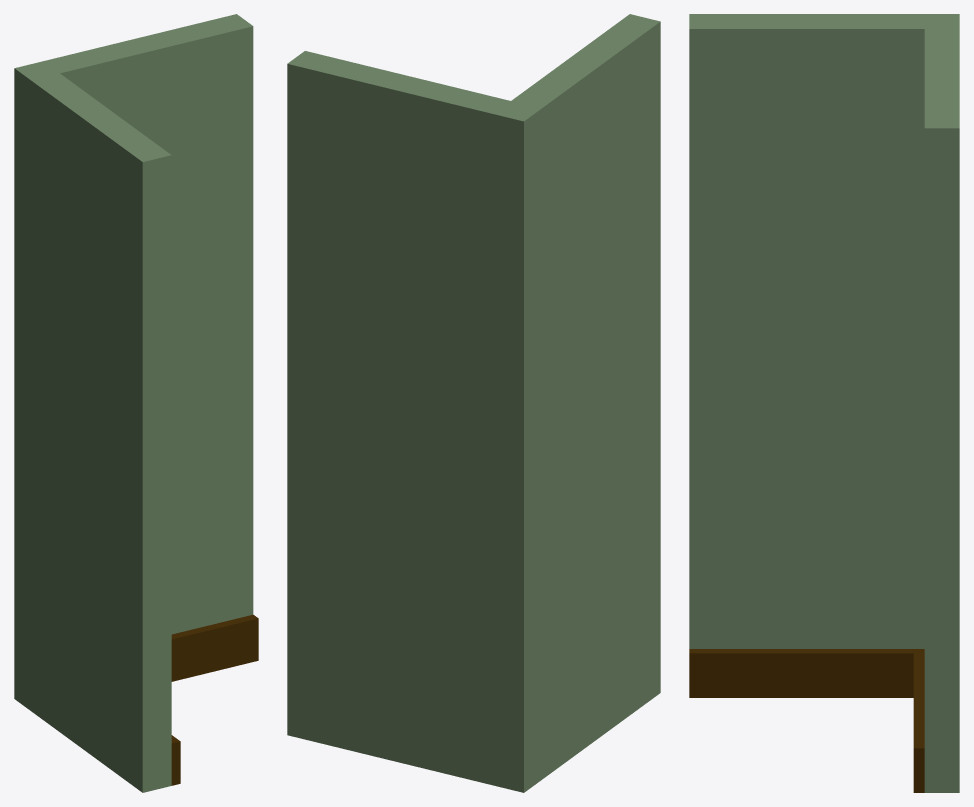
The model's file is Ma_Wall_Corner.fbx.
3 renders of one model, left to right at view 1: azimuth 30°, elevation 25°; view 2: azimuth 150°, elevation 25°; view 3: azimuth 270°, elevation 25°, orthographic. The views are drawn at different scales.
Visible parts, largest first — view 1: Ma_Wall_Corner; view 2: Ma_Wall_Corner; view 3: Ma_Wall_Corner.
Boxes of the visible parts, left/top/right/bottom form: Ma_Wall_Corner: left=14, top=14, right=258, bottom=792; Ma_Wall_Corner: left=287, top=14, right=660, bottom=792; Ma_Wall_Corner: left=689, top=14, right=959, bottom=792.
Bounding box in the file's own units: 1000 × 1000 × 2711.
